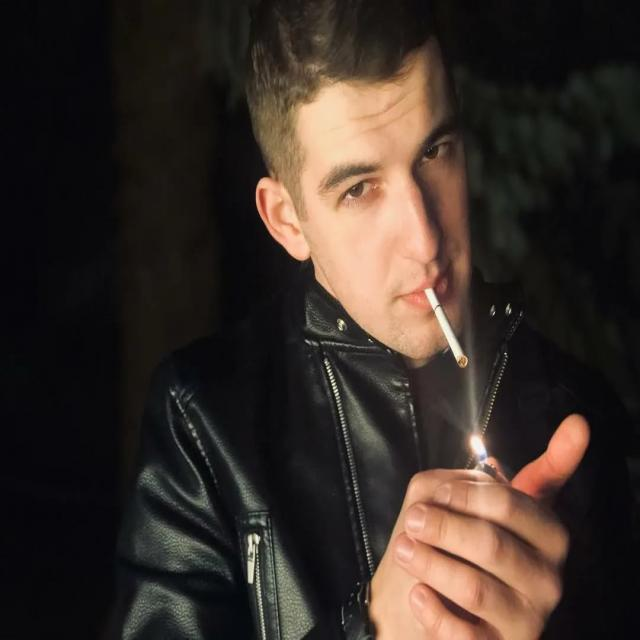cigarette: (422, 282, 470, 373)
